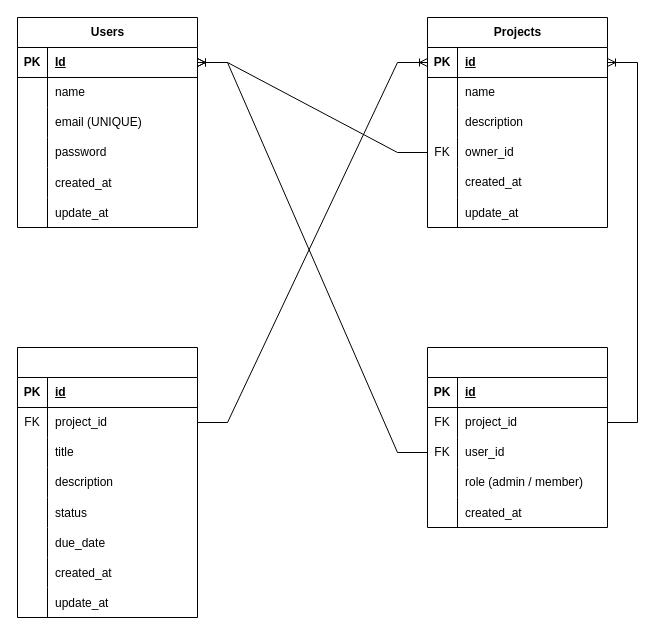
Some shapes in this 663 by 635 pixel diagram are drawn without their labels. The shapes that lost their labels are listed below. From the top down, each one's box as (x1, y1, x2, y2) in pixels, then its label:
(426, 346, 608, 528): ProjectMembers
(16, 346, 198, 618): Tasks
